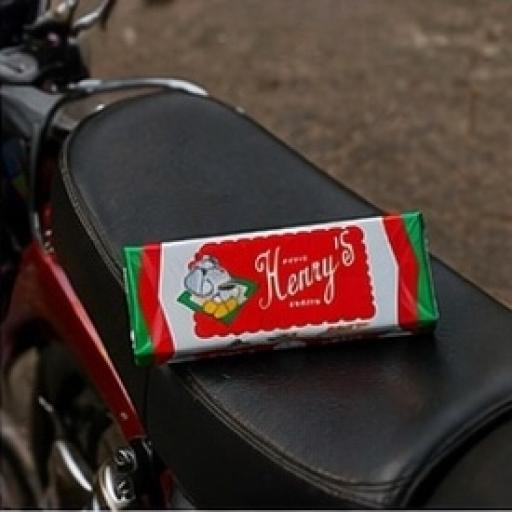golden: (90, 174, 452, 410)
